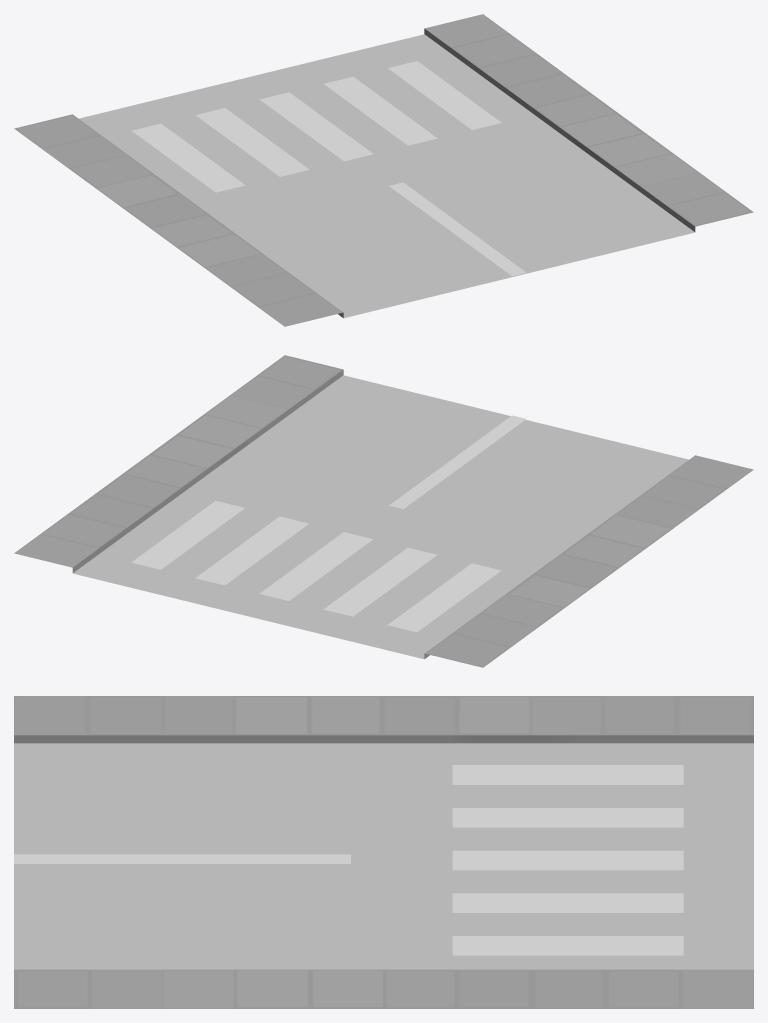
Rendered from tile_road_crossing_1x1_a.fbx.
The picture shows the model from 3 angles, top to bottom: view 1: azimuth 30°, elevation 25°; view 2: azimuth 150°, elevation 25°; view 3: azimuth 270°, elevation 25°; orthographic projection. The views are drawn at different scales.
Parts seen in each view (by area): view 1: tile_road_crossing_1x1_a; view 2: tile_road_crossing_1x1_a; view 3: tile_road_crossing_1x1_a.
Part boxes in pixels (box(x1,y1,x2,y2)): tile_road_crossing_1x1_a: box(14, 14, 753, 326); tile_road_crossing_1x1_a: box(14, 355, 753, 667); tile_road_crossing_1x1_a: box(14, 696, 753, 1008).
Bounding box in the file's own units: 1600 × 19.01 × 1600.
